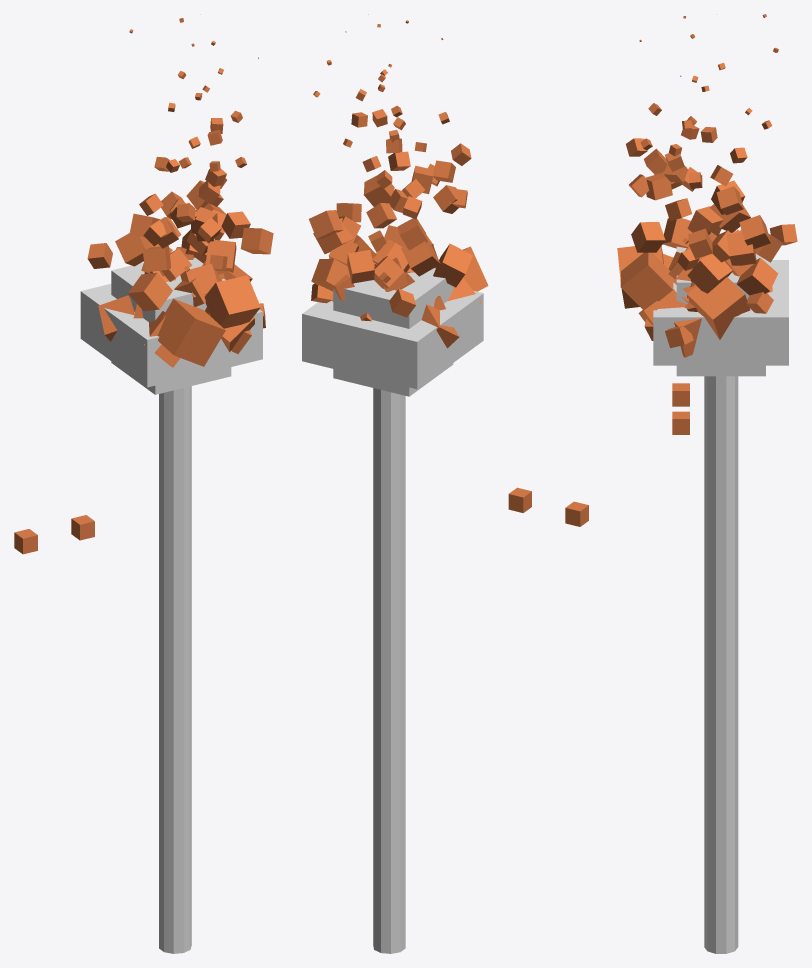
File: fire.fbx
The picture shows the model from 3 angles, left to right: view 1: azimuth 30°, elevation 25°; view 2: azimuth 150°, elevation 25°; view 3: azimuth 270°, elevation 25°; orthographic projection.
Parts seen in each view (by area): view 1: Cylinder, Cube.003, Plane|Cube.001|Dupli|463, Plane|Cube.001|Dupli|460, Cube.002, Plane.001|Cube|Dupli|454, Cube.004, Plane.001|Cube|Dupli|448, Plane.001|Cube|Dupli|443, Plane|Cube.001|Dupli|459, Plane.001|Cube|Dupli|450, Plane.001|Cube|Dupli|457 (+2 smaller); view 2: Cylinder, Cube.003, Cube.002, Plane.001|Cube|Dupli|454, Cube.004, Plane.001|Cube|Dupli|448, Plane.001|Cube|Dupli|452, Plane.001|Cube|Dupli|451, Plane.001|Cube|Dupli|441, Plane|Cube.001|Dupli|459, Plane.001|Cube|Dupli|444; view 3: Cylinder, Cube.003, Plane|Cube.001|Dupli|460, Plane|Cube.001|Dupli|466, Cube.004, Plane.001|Cube|Dupli|453, Plane.001|Cube|Dupli|452, Plane.001|Cube|Dupli|443, Plane.001|Cube|Dupli|445, Plane.001|Cube|Dupli|441, Plane.001|Cube|Dupli|454, Plane.001|Cube|Dupli|450 (+16 smaller).
Boxes of the visible parts, x1,y1,x2,y2 form: Cylinder: [159, 386, 191, 953]; Cube.003: [80, 284, 262, 387]; Plane|Cube.001|Dupli|463: [157, 298, 225, 366]; Plane|Cube.001|Dupli|460: [204, 275, 260, 328]; Cube.002: [111, 257, 225, 321]; Plane.001|Cube|Dupli|454: [128, 272, 172, 311]; Cube.004: [111, 361, 231, 394]; Plane.001|Cube|Dupli|448: [115, 233, 151, 266]; Plane.001|Cube|Dupli|443: [240, 228, 273, 254]; Plane|Cube.001|Dupli|459: [98, 295, 134, 341]; Plane.001|Cube|Dupli|450: [142, 245, 170, 272]; Plane.001|Cube|Dupli|457: [180, 263, 217, 297]; Cylinder: [373, 388, 405, 953]; Cube.003: [302, 291, 483, 389]; Cube.002: [333, 268, 453, 328]; Plane.001|Cube|Dupli|454: [433, 243, 472, 287]; Cube.004: [333, 363, 453, 396]; Plane.001|Cube|Dupli|448: [401, 241, 440, 276]; Plane.001|Cube|Dupli|452: [311, 258, 349, 291]; Plane.001|Cube|Dupli|451: [347, 250, 374, 283]; Plane.001|Cube|Dupli|441: [309, 210, 343, 238]; Plane|Cube.001|Dupli|459: [421, 304, 459, 348]; Plane.001|Cube|Dupli|444: [397, 218, 427, 250]; Cylinder: [704, 376, 738, 953]; Cube.003: [653, 260, 788, 365]; Plane|Cube.001|Dupli|460: [620, 252, 673, 310]; Plane|Cube.001|Dupli|466: [687, 277, 750, 339]; Cube.004: [676, 365, 765, 376]; Plane.001|Cube|Dupli|453: [687, 253, 732, 293]; Plane.001|Cube|Dupli|452: [736, 258, 778, 295]; Plane.001|Cube|Dupli|443: [631, 222, 665, 252]; Plane.001|Cube|Dupli|445: [727, 232, 756, 265]; Plane.001|Cube|Dupli|441: [739, 215, 770, 248]; Plane.001|Cube|Dupli|454: [663, 218, 692, 248]; Plane.001|Cube|Dupli|450: [687, 206, 723, 235].
Size of what is drawn, in the model's own units: 115 by 410 by 71.
